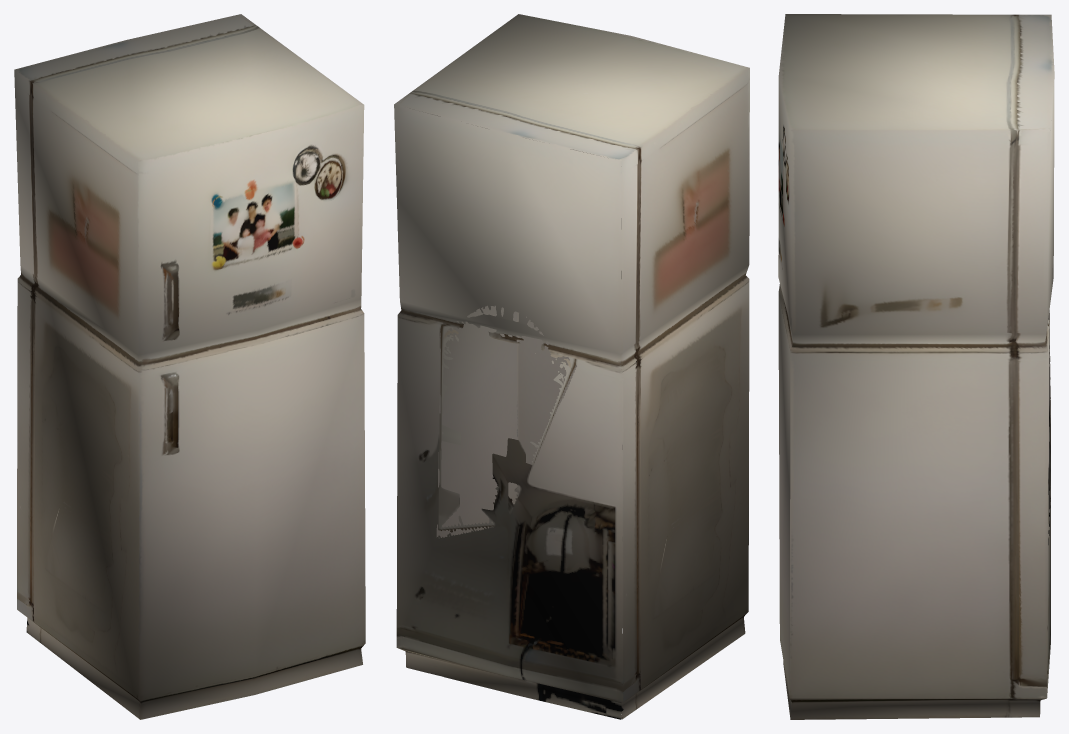
The model's file is stage4_fridge.fbx.
3 views of the same model, side by side, from view 1: azimuth 30°, elevation 25°; view 2: azimuth 150°, elevation 25°; view 3: azimuth 270°, elevation 25° (orthographic). The views are drawn at different scales.
Parts seen in each view (by area): view 1: stage4_fridge; view 2: stage4_fridge; view 3: stage4_fridge.
Boxes of the visible parts, x1,y1,x2,y2 form: stage4_fridge: [14, 14, 365, 719]; stage4_fridge: [394, 14, 749, 719]; stage4_fridge: [778, 14, 1054, 719].
Size of the model in its own units: 0.767 by 1.8 by 0.7614.
